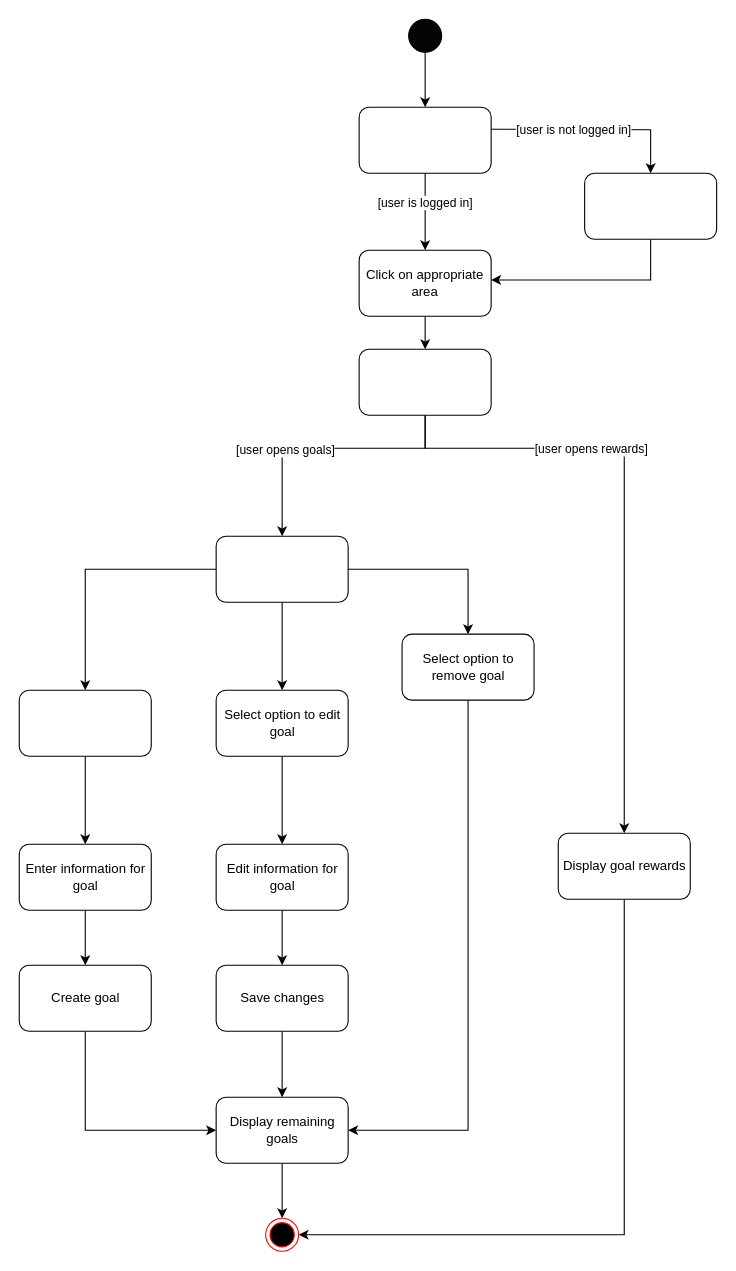
Some shapes in this 736 by 1271 pixel diagram are drawn without their labels. The shapes that lost their labels are listed below. From the top down, each one's box as (x1, y1, x2, y2) in pixels, then its label:
(358, 106, 491, 173): Open app
(584, 172, 717, 239): Log into app
(358, 348, 491, 415): Update goals (automatically done by app)
(215, 535, 348, 602): Display relevant goals
(18, 689, 151, 756): Select option to create goal
